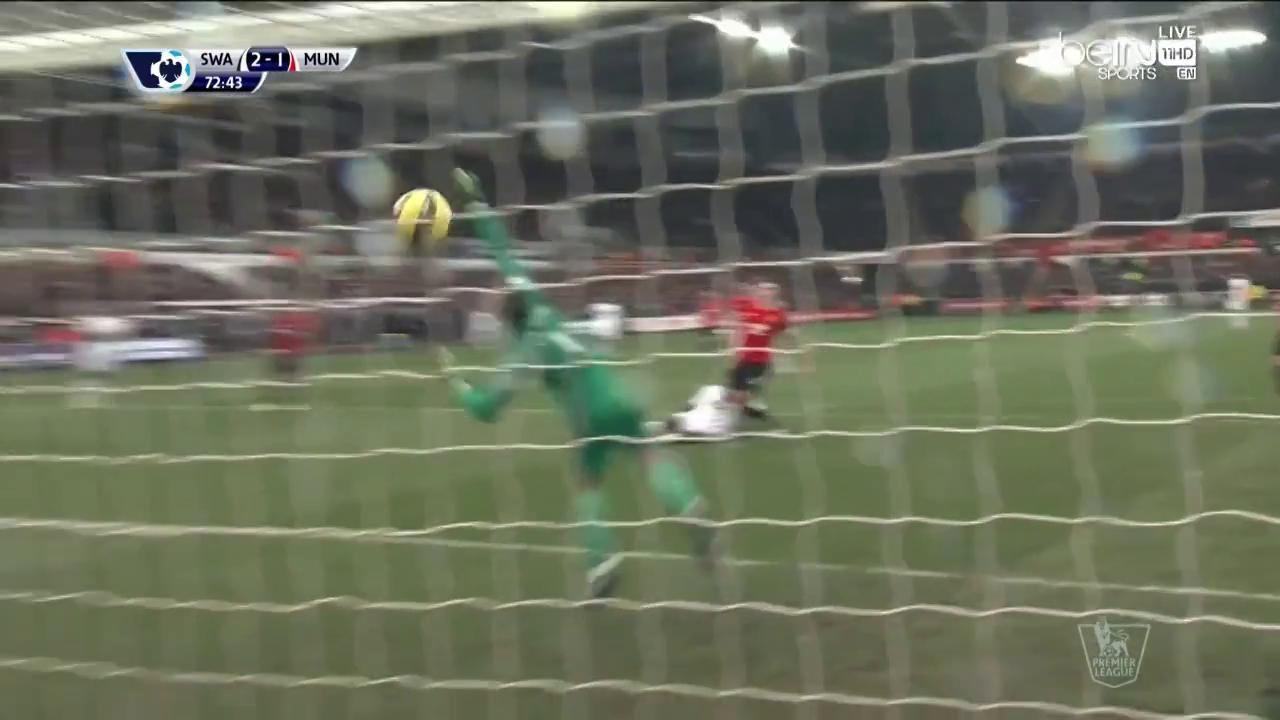football: (392, 184, 454, 247)
